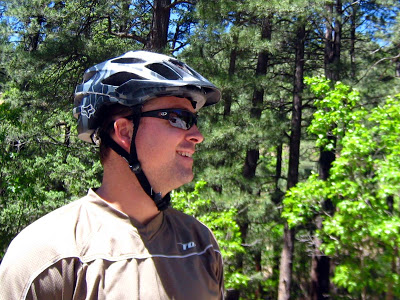helmet: (73, 50, 220, 126)
